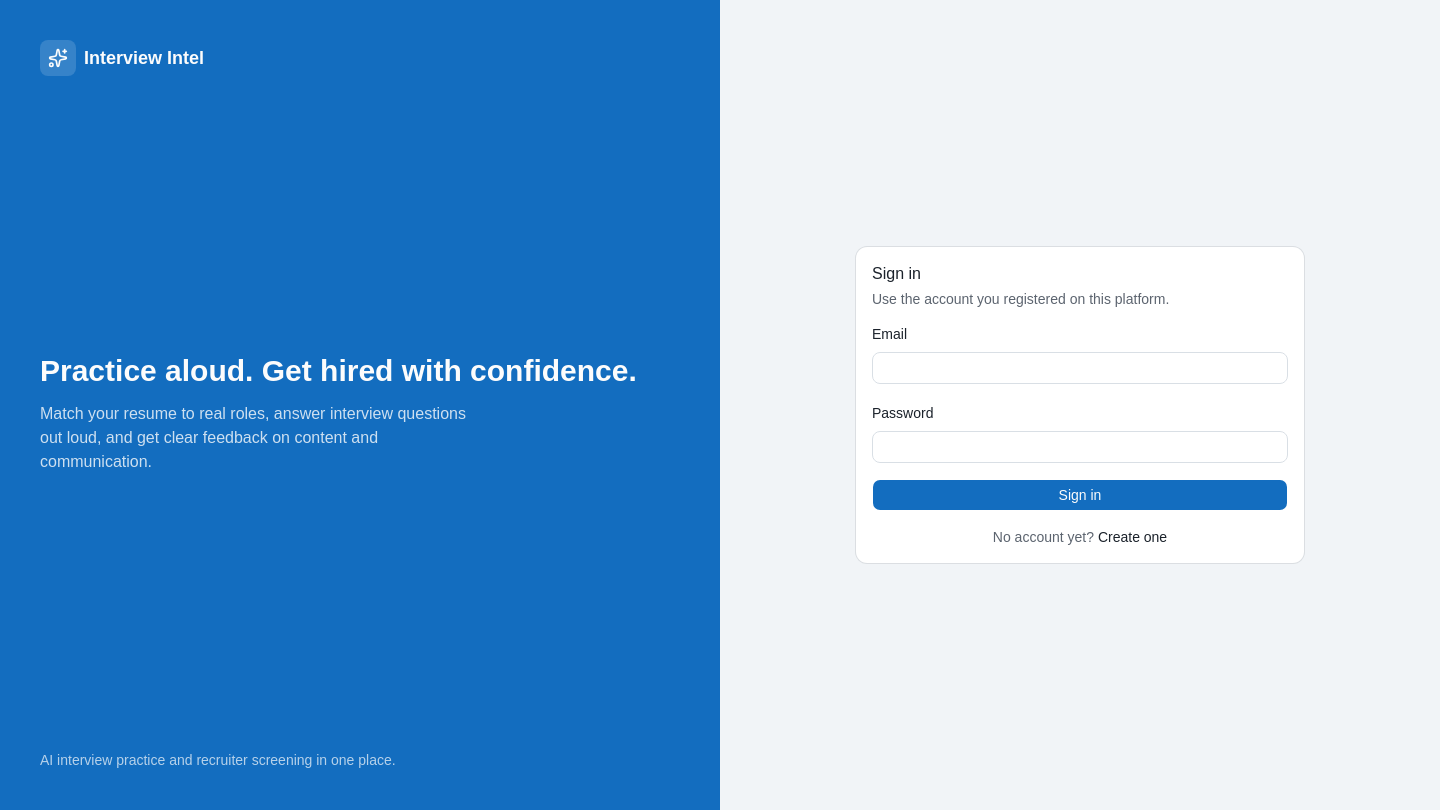
Test case: login as a recruiter lands on recruiter home without Interview or Admin
The width and height of the screenshot is (1440, 810).
Type "smoke-recruiter@example.com" into the field labelled "Email". click: (1080, 368)
box: [872,352,1288,384]
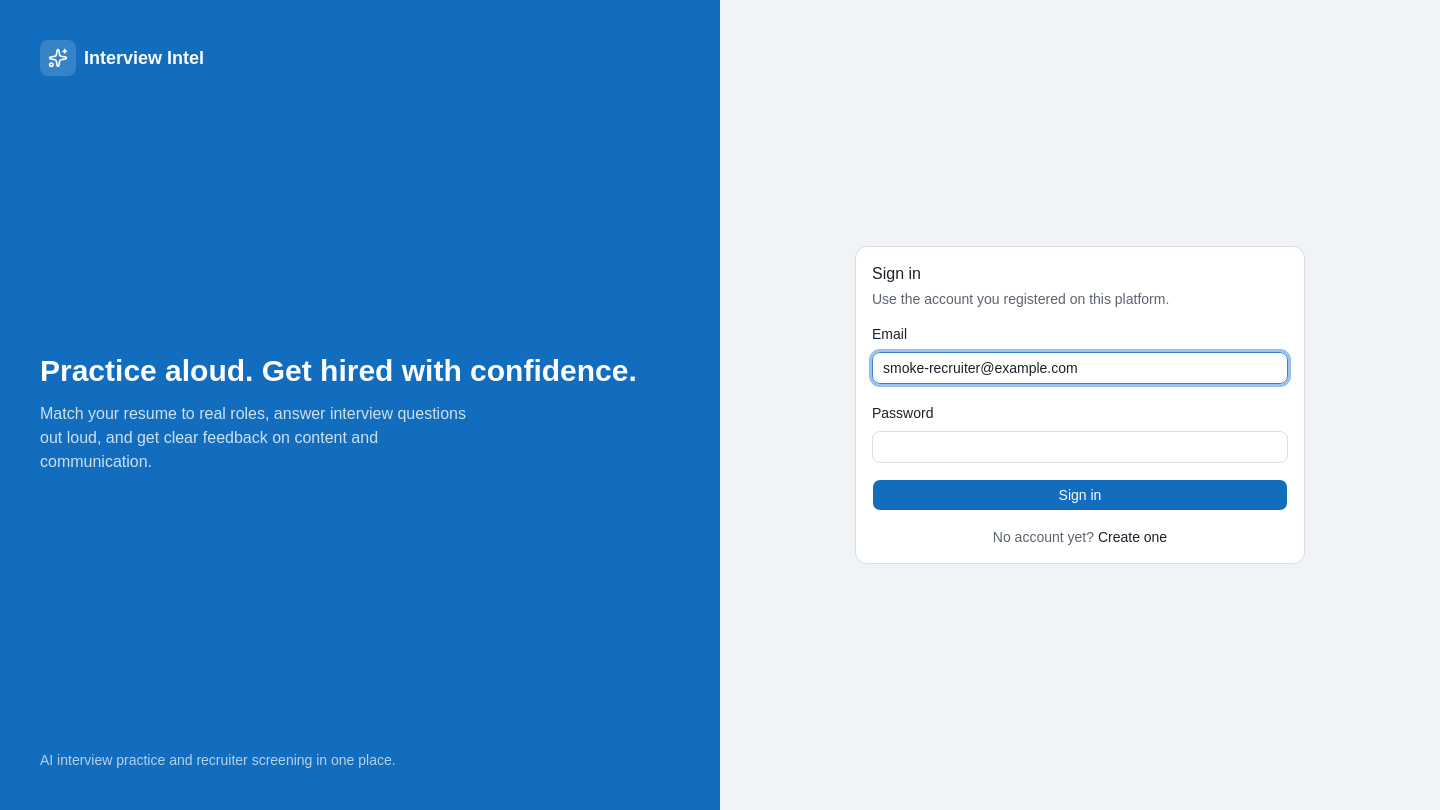
Type "smoke-pass" into the password field labelled "Password". click: (1080, 447)
box: [872,431,1288,463]
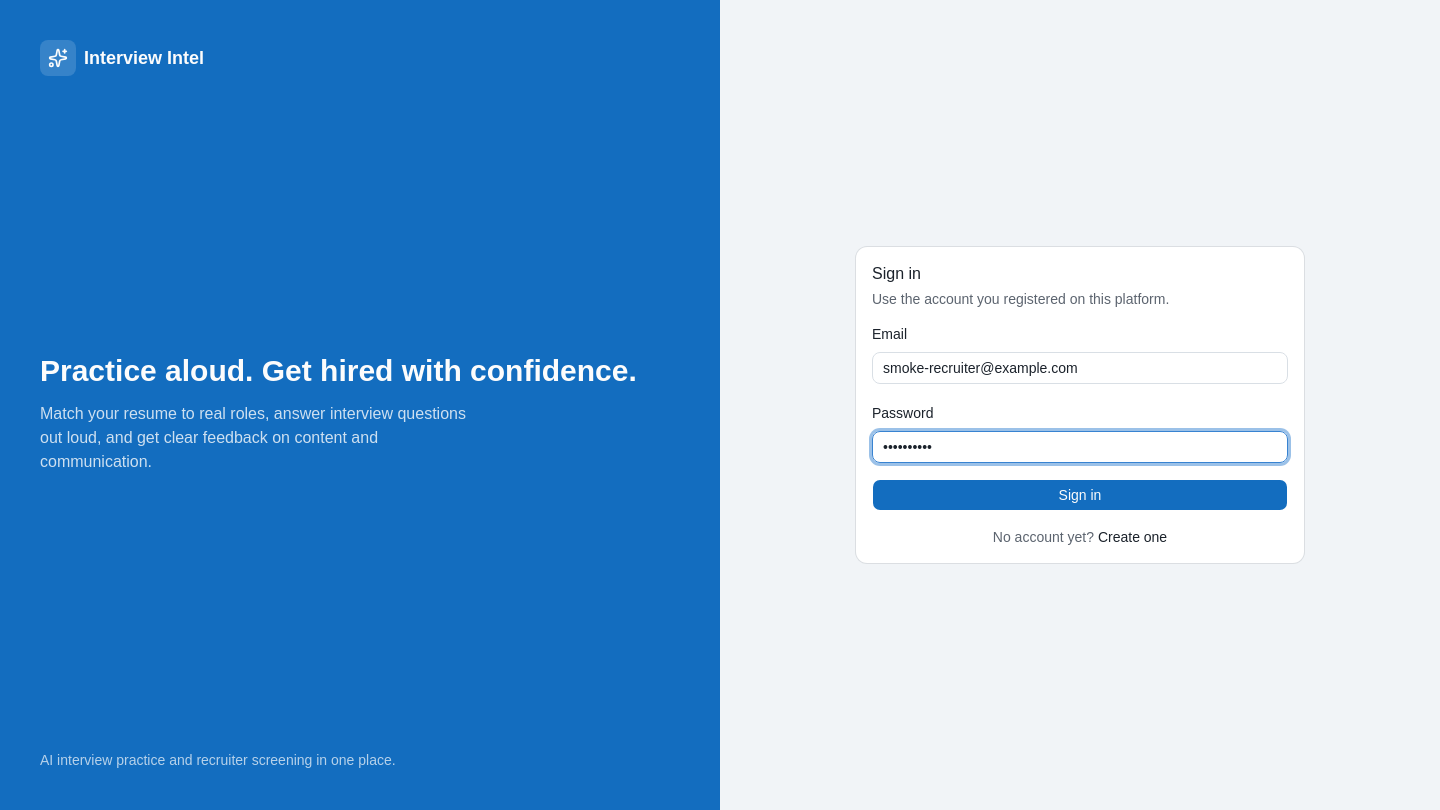
Click the button "Sign in". click: (1080, 495)
box: [872,479,1288,511]
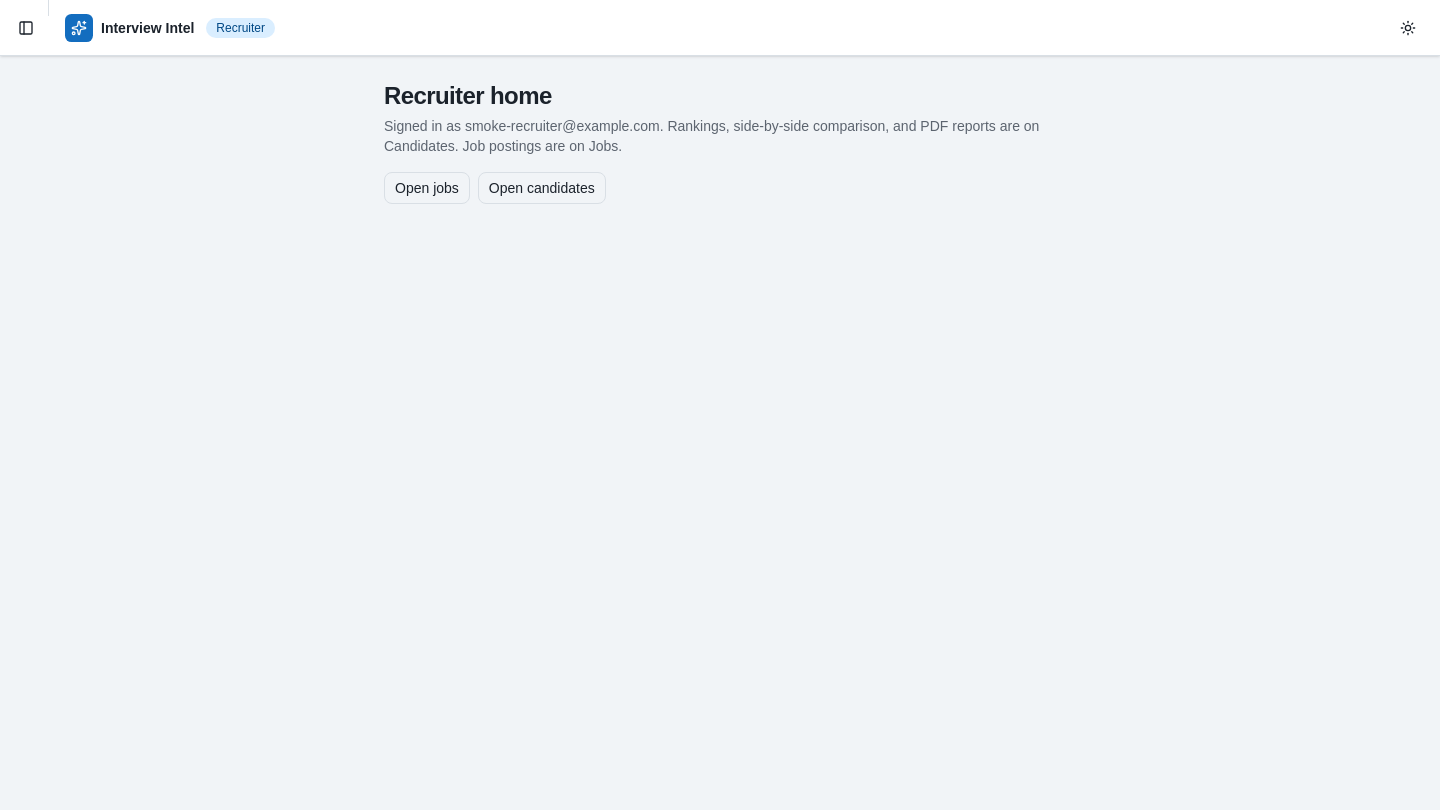
Check: the heading "Recruiter home" is shown, box [384,82,552,109]
